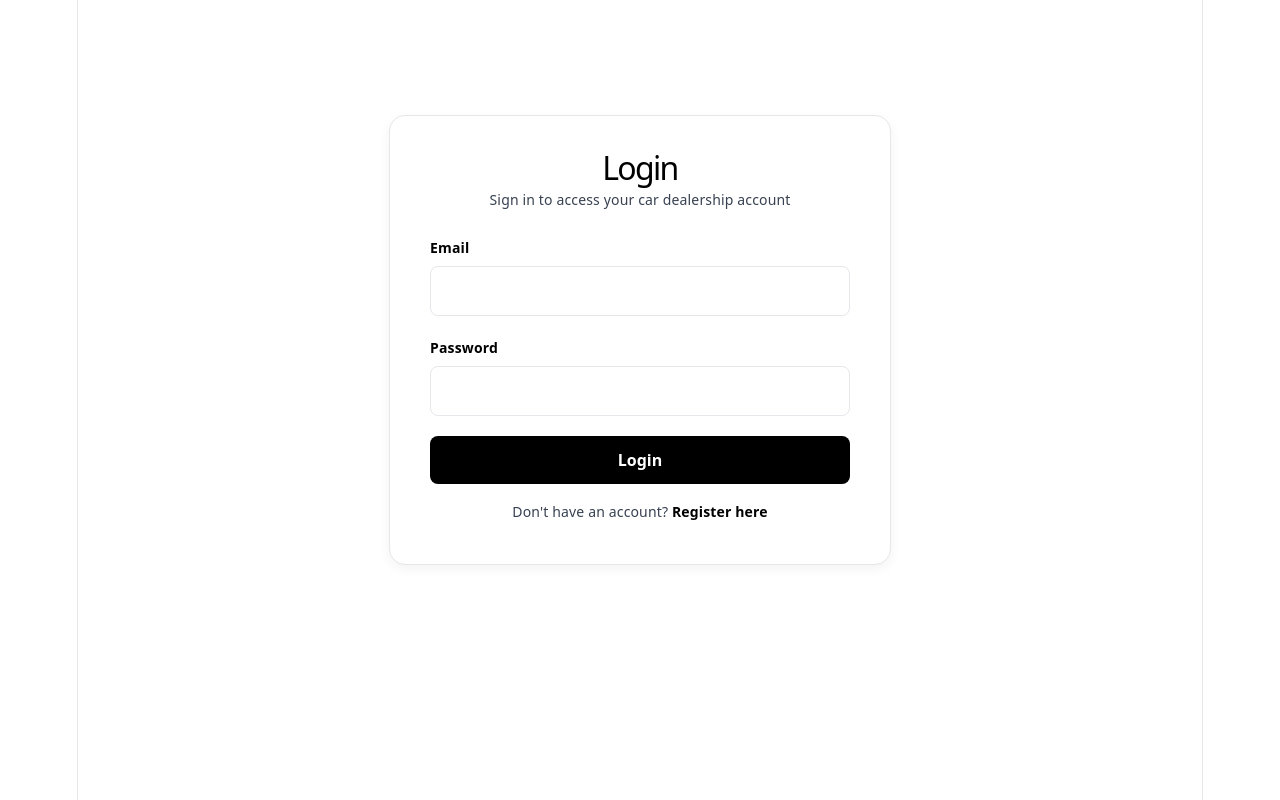
Scenario: Login Page › should display error message on login failure
Type "wrong@gmail.com" into the field labelled "Email" at (640, 291), box [430, 266, 850, 316]
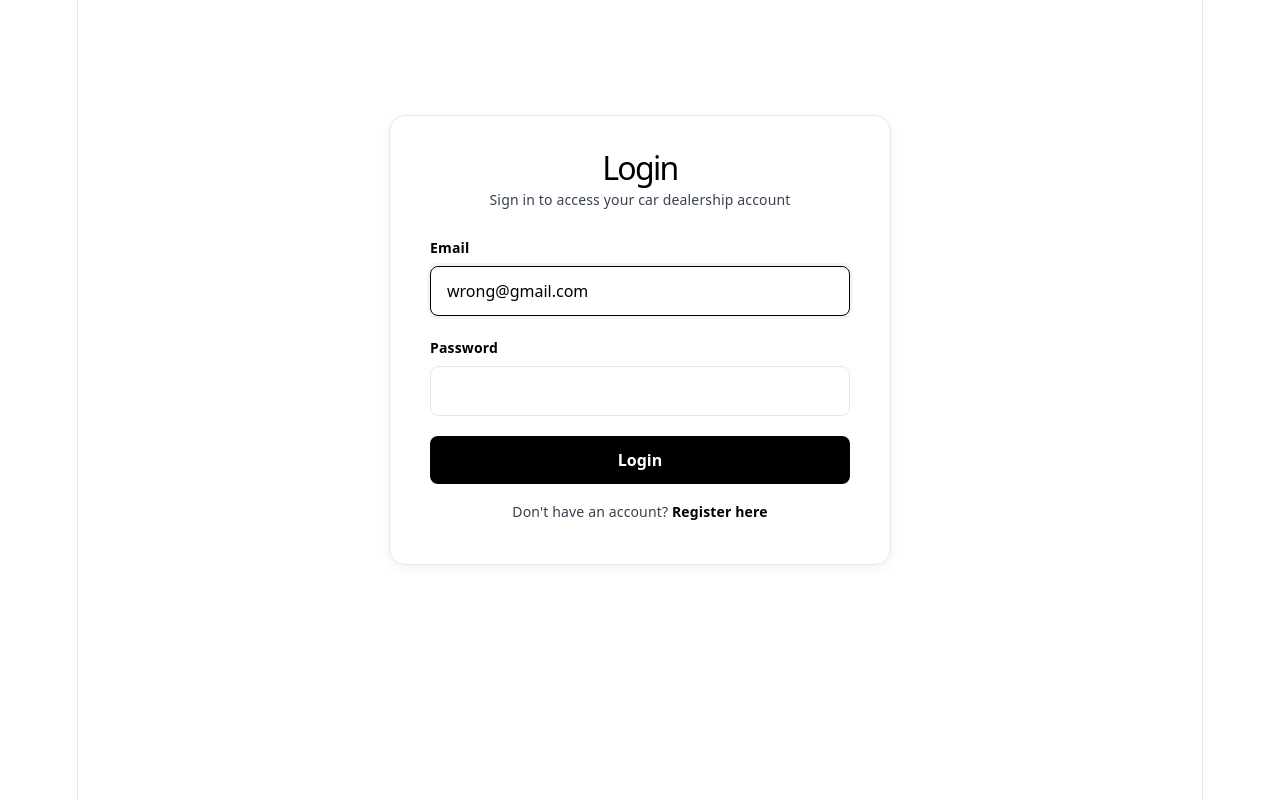
Type "wrongpass" into the password field labelled "Password" at (640, 391), box [430, 366, 850, 416]
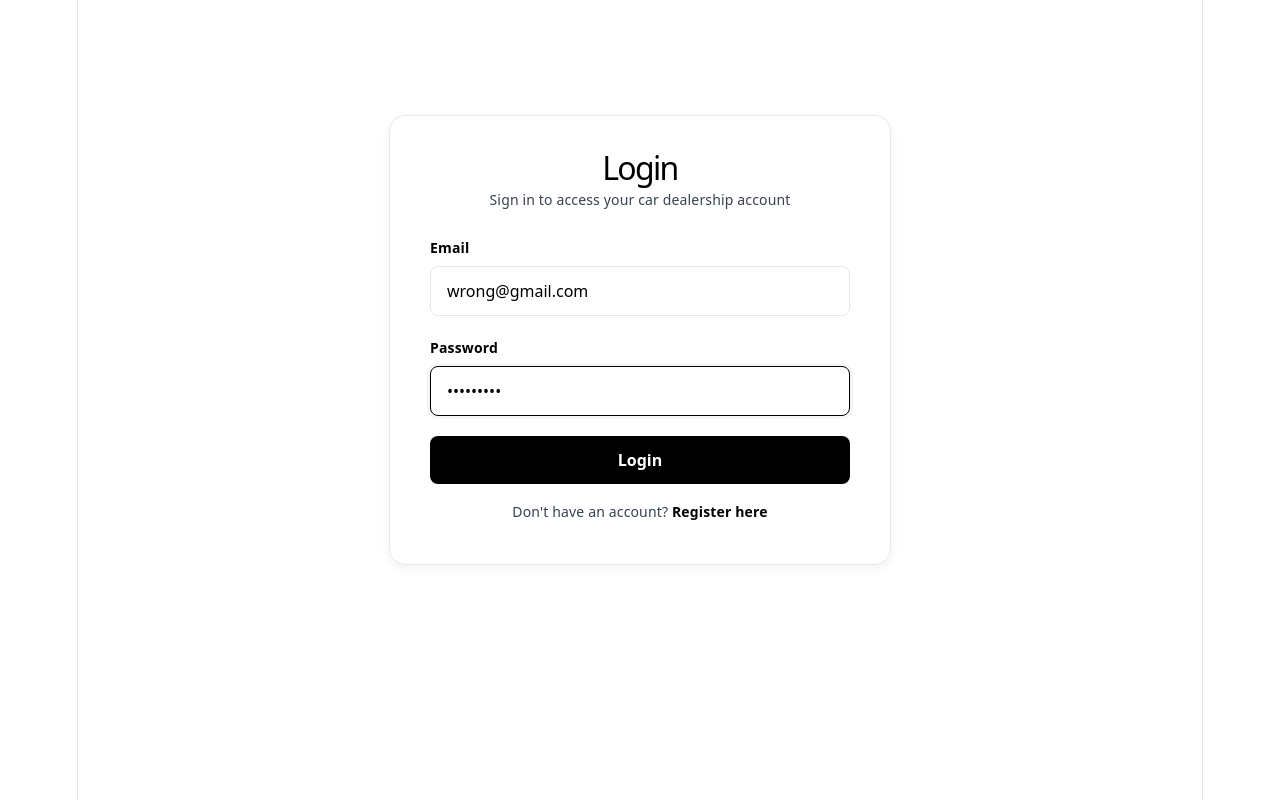
Click the button "Login" at (640, 460), box [430, 436, 850, 484]
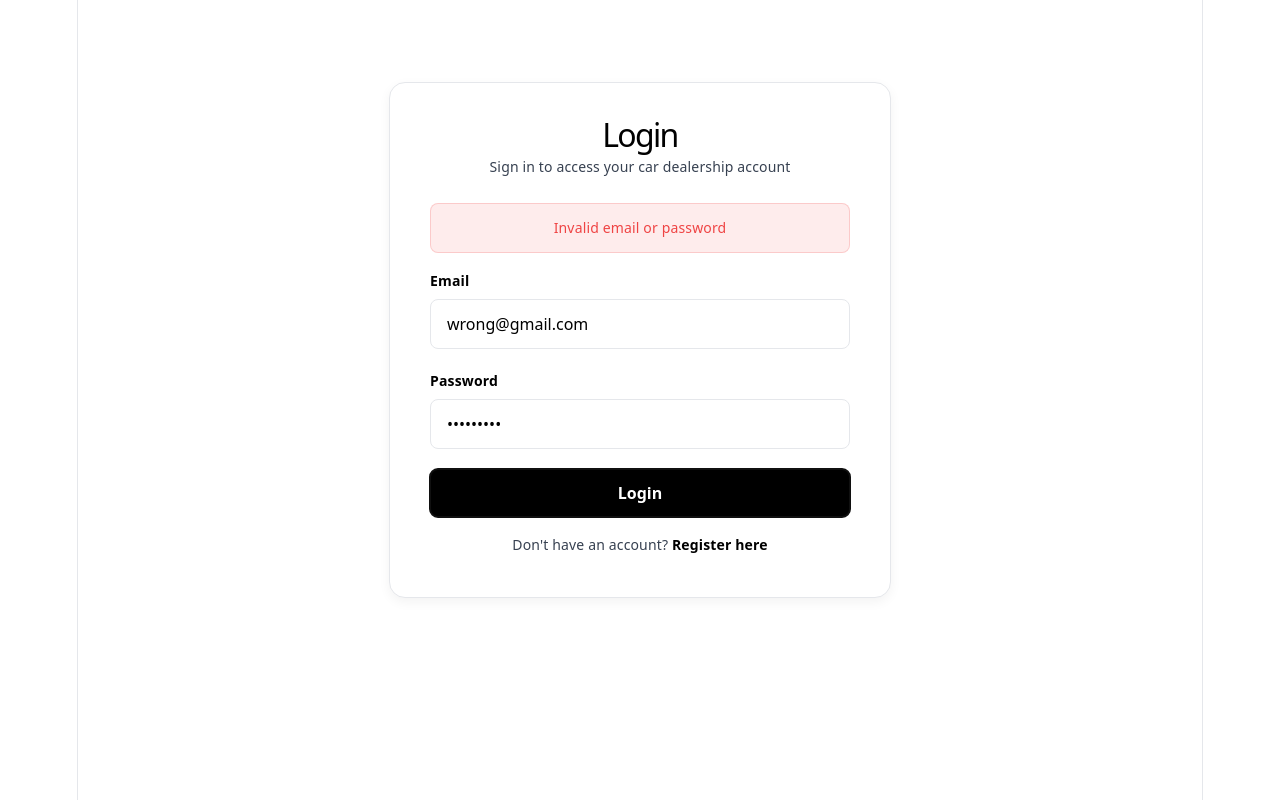
Result: the text "Invalid email or password" is shown at [430, 203, 850, 253]
